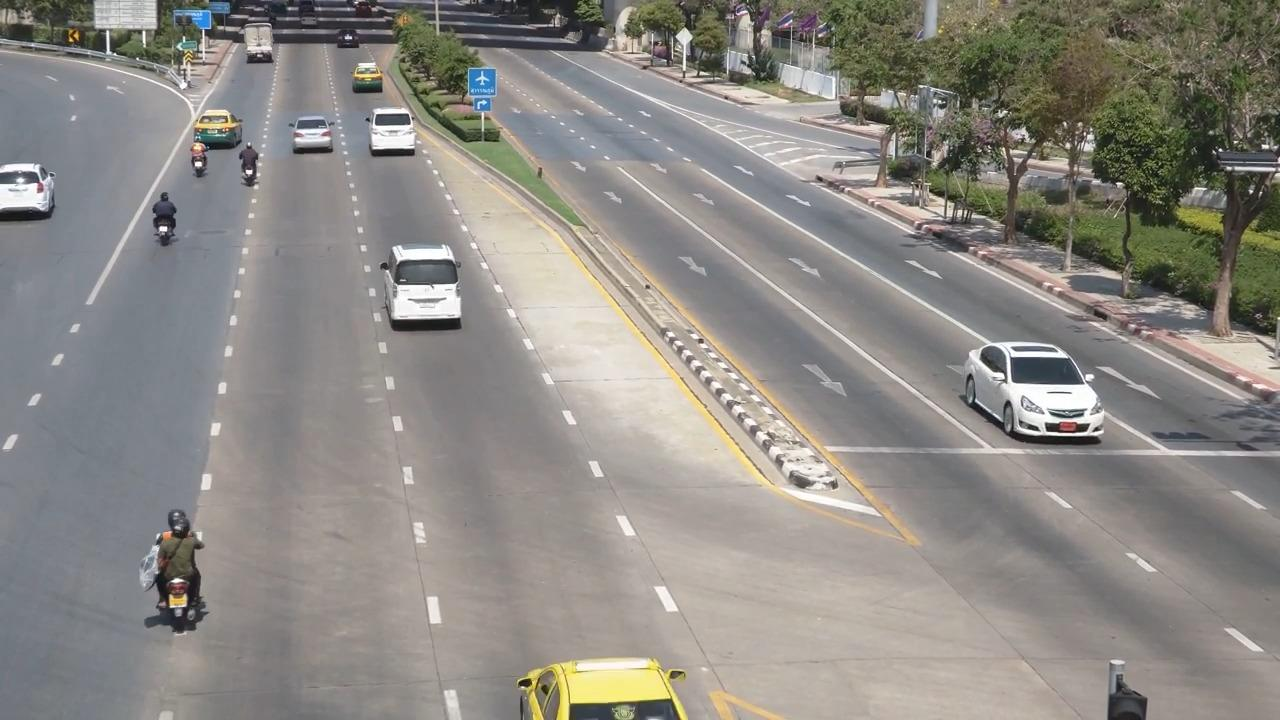CAR: (958, 326, 1119, 448), (506, 633, 714, 720), (367, 230, 489, 338), (0, 153, 65, 235), (356, 101, 431, 170), (281, 111, 346, 166), (178, 103, 247, 154), (341, 58, 404, 105), (238, 21, 284, 75), (327, 24, 378, 59)
MOTOR: (129, 496, 230, 643), (137, 189, 190, 266), (229, 138, 276, 204), (177, 133, 217, 191)
